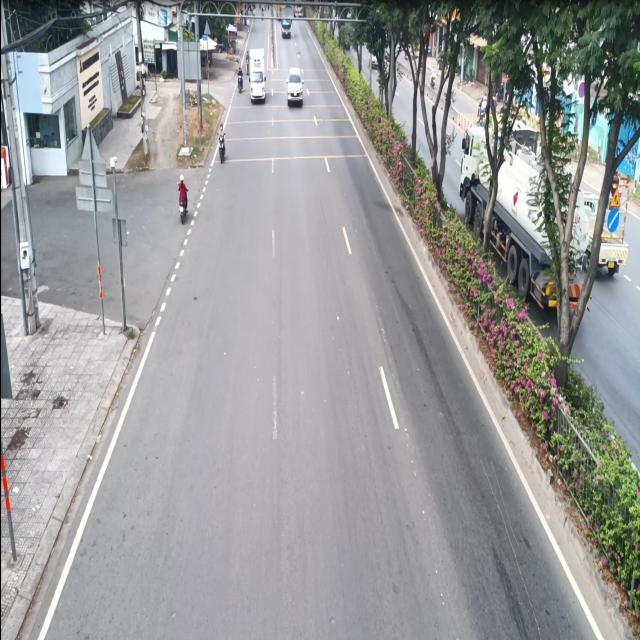car: (283, 62, 307, 110)
motorbike: (178, 170, 191, 224), (214, 119, 229, 164)
truck: (247, 48, 267, 110)
